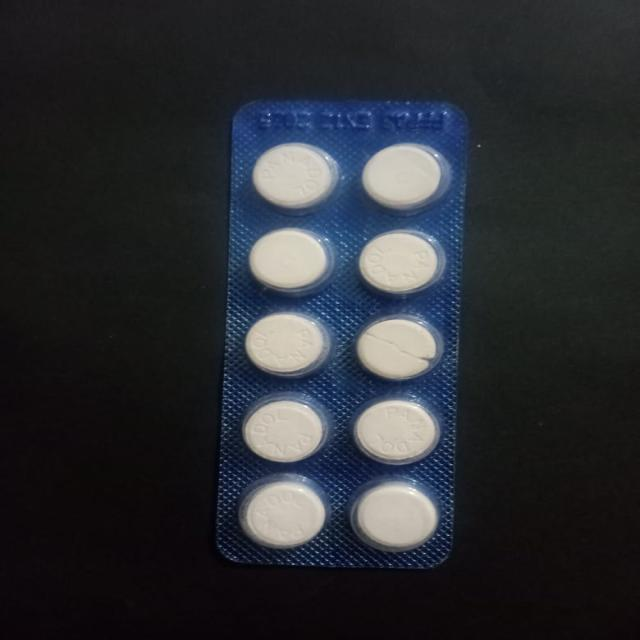defect: (346, 310, 452, 386)
